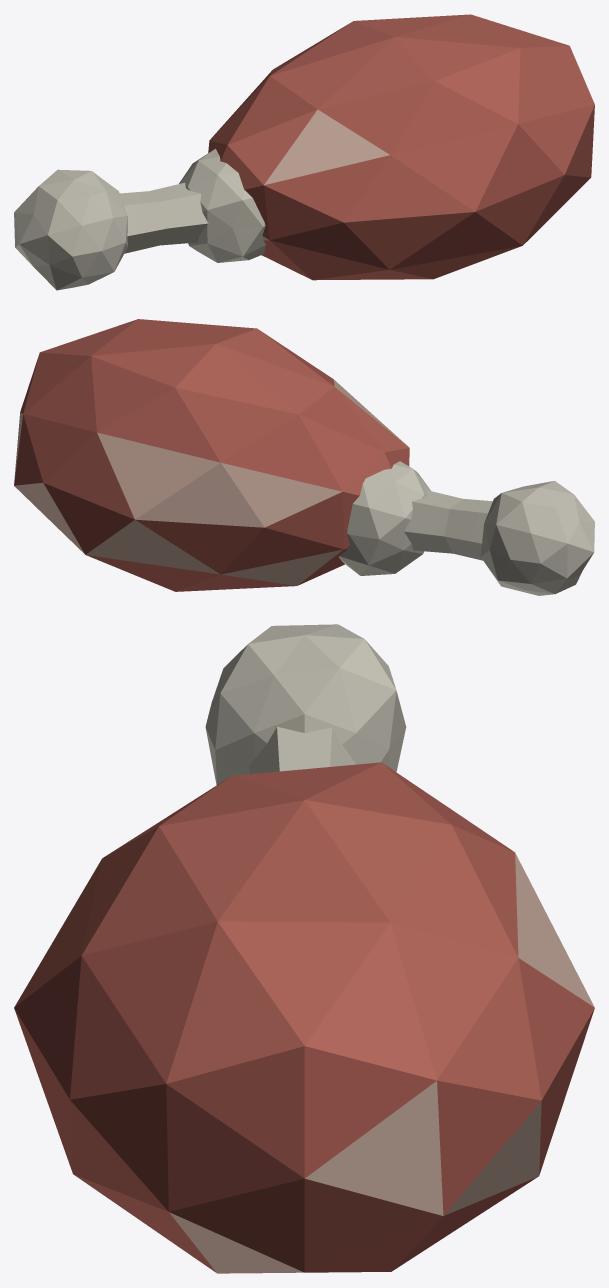
File: drop_food_a.glb
The picture shows the model from 3 angles, top to bottom: view 1: azimuth 30°, elevation 25°; view 2: azimuth 150°, elevation 25°; view 3: azimuth 270°, elevation 25°; orthographic projection. The views are drawn at different scales.
Parts seen in each view (by area): view 1: drop_food_a; view 2: drop_food_a; view 3: drop_food_a.
Boxes of the visible parts, x1=… form: drop_food_a: x1=14, y1=14, x2=594, y2=290; drop_food_a: x1=14, y1=319, x2=594, y2=595; drop_food_a: x1=14, y1=624, x2=594, y2=1273.
Bounding box in the file's own units: 0.4271 × 0.1673 × 0.2098.
